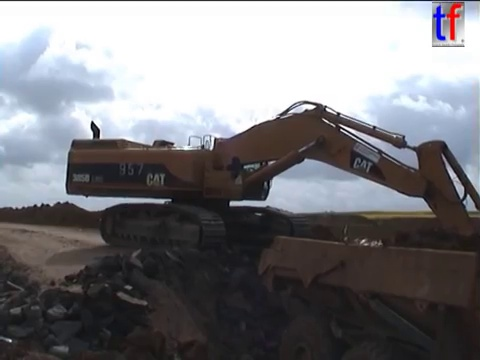excavator: (62, 98, 480, 290)
truck: (253, 215, 480, 360)
